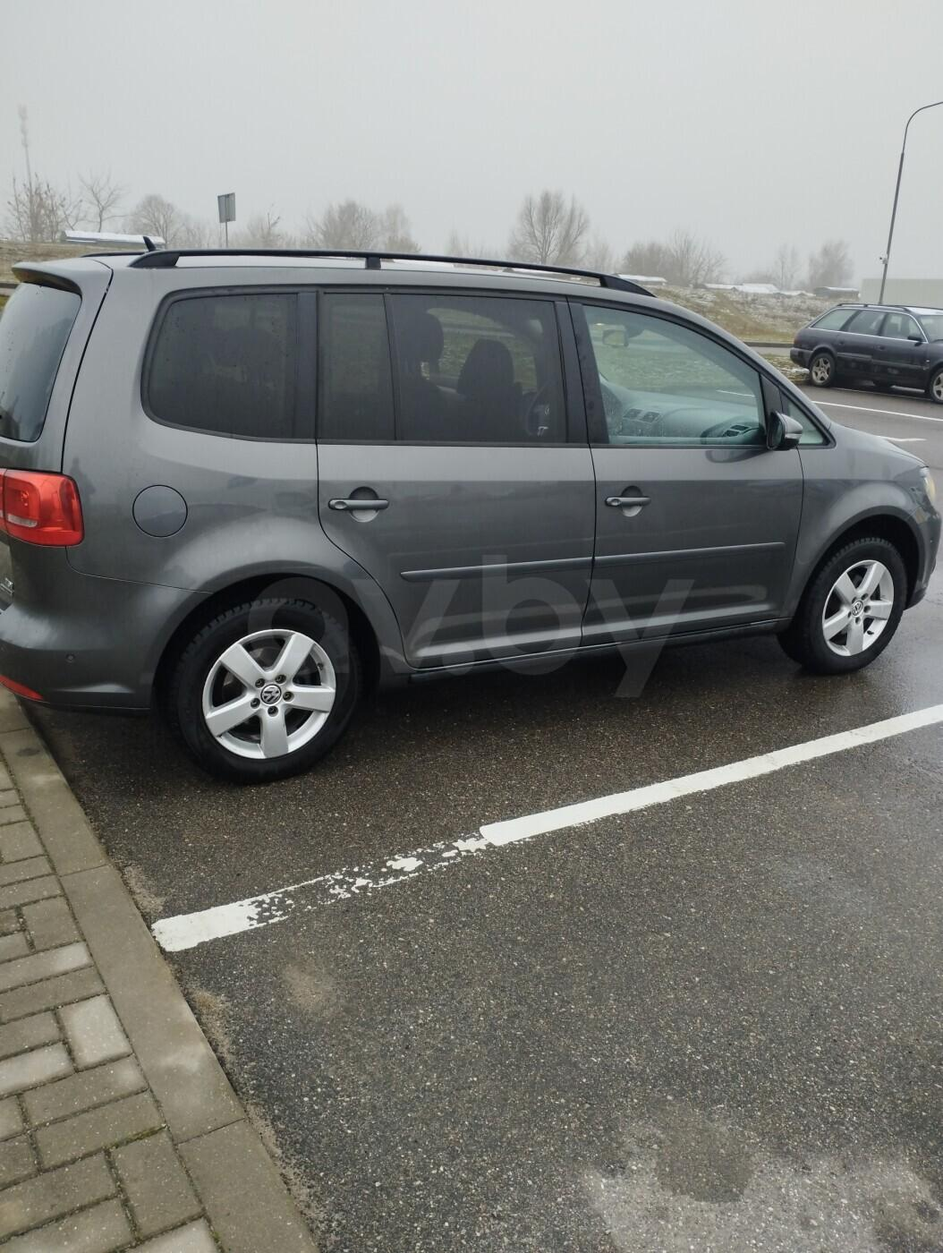Touran_2010-2015: (0, 236, 943, 782)
